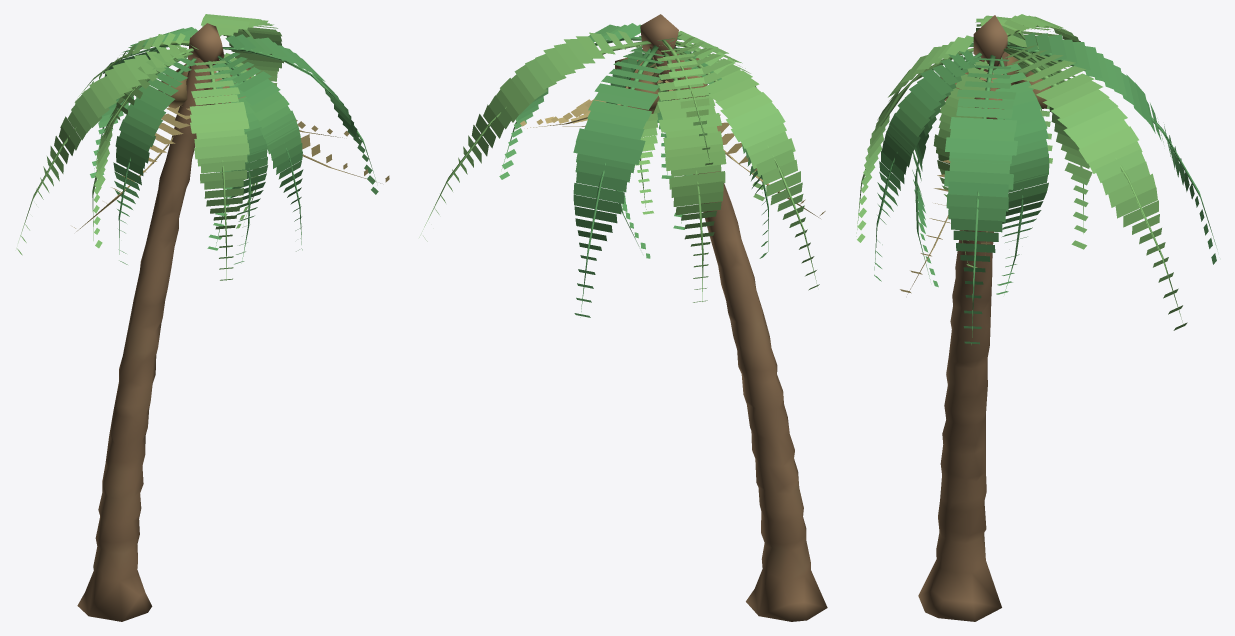
File: palm_a_far.192d6ece.glb
The picture shows the model from 3 angles, left to right: view 1: azimuth 30°, elevation 25°; view 2: azimuth 150°, elevation 25°; view 3: azimuth 270°, elevation 25°; orthographic projection. The views are drawn at different scales.
Parts seen in each view (by area): view 1: palm_a; view 2: palm_a; view 3: palm_a.
Part boxes in pixels (x1,y1,x2,y2): palm_a: [16, 14, 389, 621]; palm_a: [419, 14, 827, 621]; palm_a: [856, 14, 1217, 621].
Size of the model in its own units: 5.76 by 9 by 4.58.
